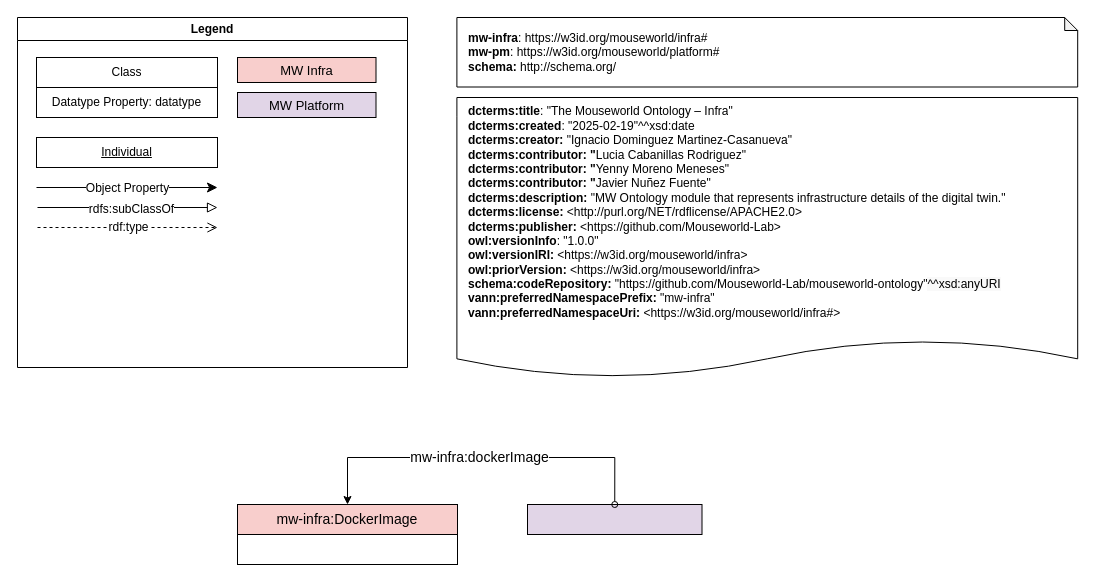
Some shapes in this 1096 by 582 pixel diagram are drawn without their labels. The centre of each missing label's shape, as x and y in pixels:
"mw-infra:imageUrl: xsd:anyURI" belongs at pixel 347 549.
"mw-pm:OperatingSystem" belongs at pixel 614 519.
